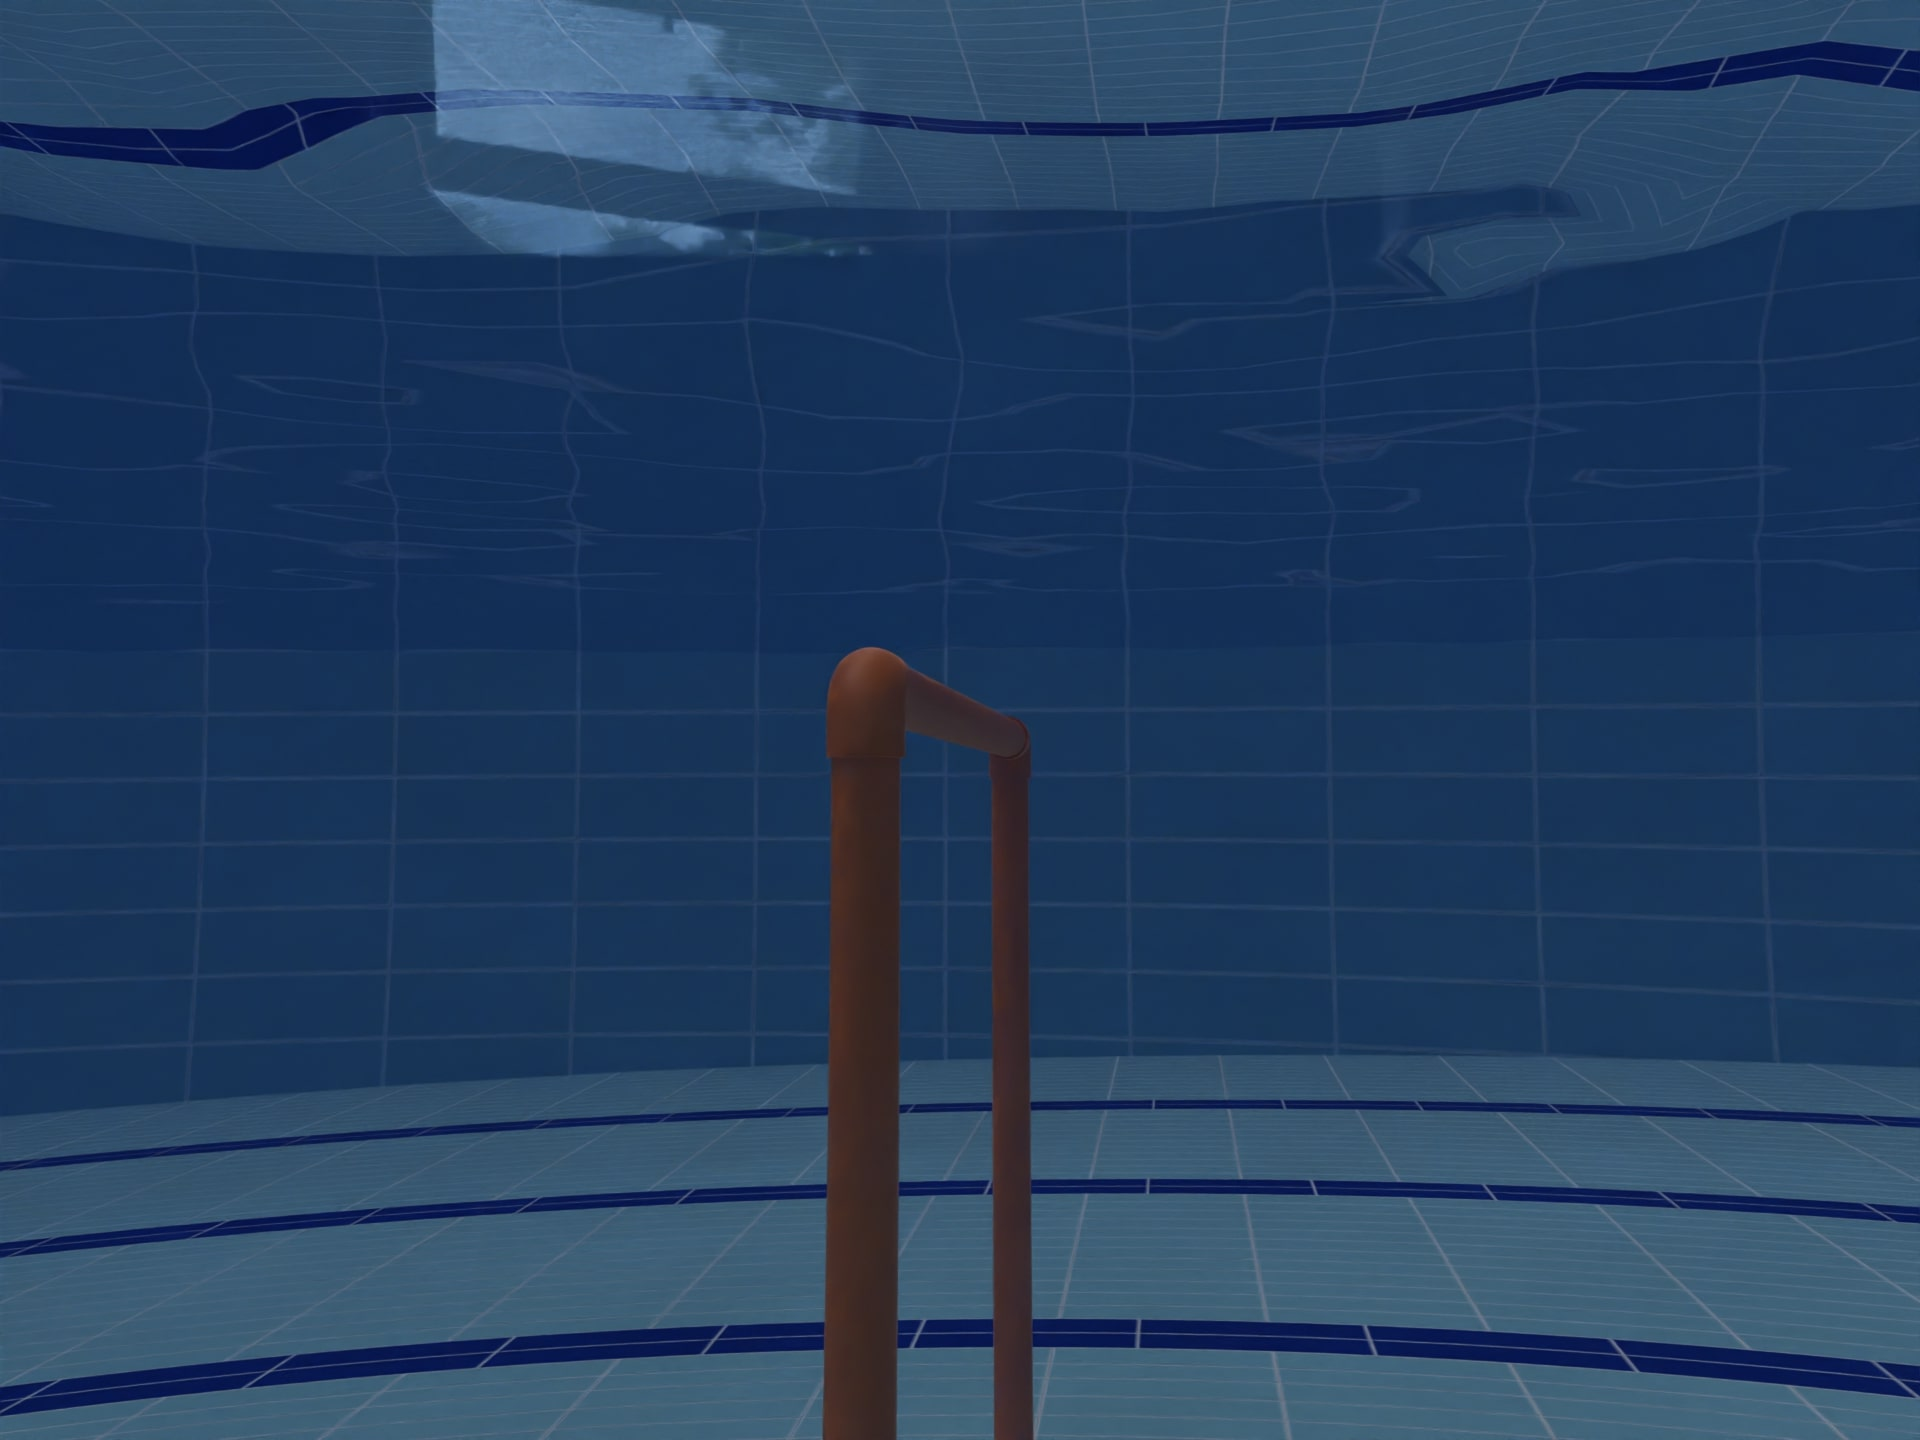gate: (726, 558, 1178, 1440)
